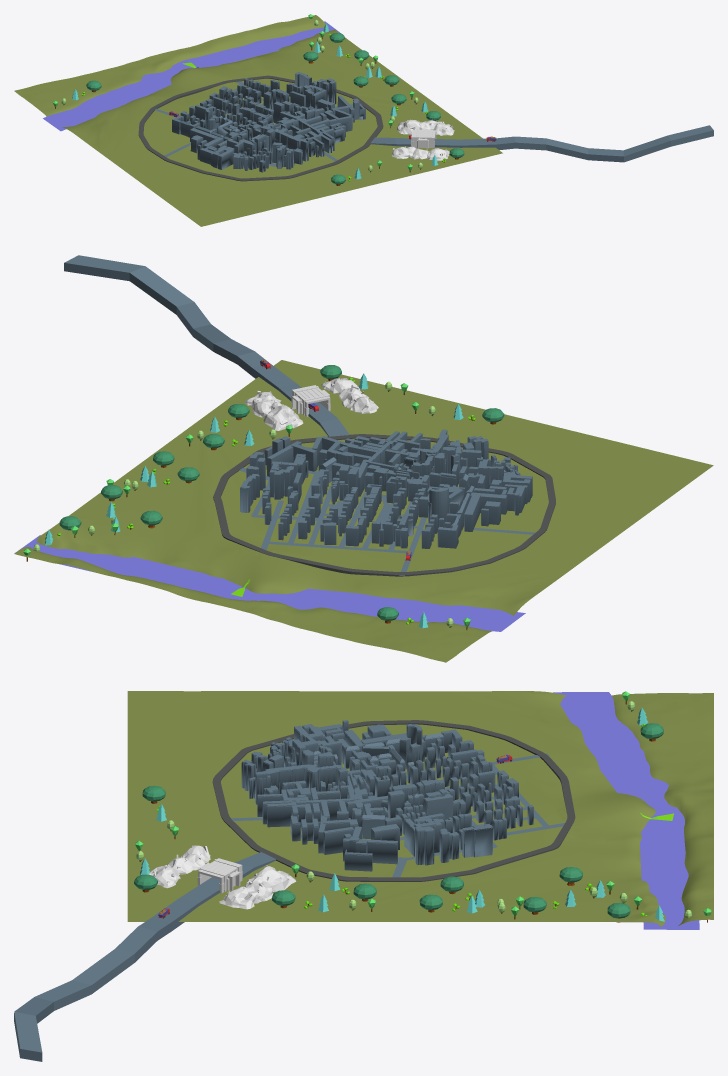
Rendered from City.fbx.
3 renders of one model, top to bottom at view 1: azimuth 30°, elevation 25°; view 2: azimuth 150°, elevation 25°; view 3: azimuth 270°, elevation 25°, orthographic. The views are drawn at different scales.
Parts seen in each view (by area): view 1: map_5.osm_roads_unclassified.006, map_5.osm_roads_unclassified.009, Plane.003, Plane.002, Plane.001, musor.001; view 2: map_5.osm_roads_unclassified.006, map_5.osm_roads_unclassified.009, Plane.002, Plane.003, Plane.001, musor.001; view 3: map_5.osm_roads_unclassified.006, map_5.osm_roads_unclassified.009, Plane.003, Plane.002, Plane.001, musor.001, Tree.010, Tree.006, Tree.009, Tree.008, Tree.013, Tree.001 (+2 smaller).
Boxes of the visible parts, bbox=[...] form: map_5.osm_roads_unclassified.006: bbox=[14, 15, 502, 226]; map_5.osm_roads_unclassified.009: bbox=[172, 72, 365, 172]; Plane.003: bbox=[43, 21, 340, 131]; Plane.002: bbox=[149, 81, 713, 166]; Plane.001: bbox=[138, 75, 383, 181]; musor.001: bbox=[391, 119, 454, 160]; map_5.osm_roads_unclassified.006: bbox=[14, 360, 713, 662]; map_5.osm_roads_unclassified.009: bbox=[240, 429, 532, 548]; Plane.002: bbox=[64, 255, 534, 576]; Plane.003: bbox=[14, 535, 525, 631]; Plane.001: bbox=[213, 434, 555, 576]; musor.001: bbox=[244, 378, 378, 430]; map_5.osm_roads_unclassified.006: bbox=[127, 691, 713, 926]; map_5.osm_roads_unclassified.009: bbox=[241, 720, 533, 871]; Plane.003: bbox=[553, 692, 699, 929]; Plane.002: bbox=[14, 724, 564, 1061]; Plane.001: bbox=[212, 720, 575, 881]; musor.001: bbox=[148, 845, 296, 909]; Tree.010: bbox=[559, 867, 642, 909]; Tree.006: bbox=[523, 881, 614, 914]; Tree.009: bbox=[272, 890, 375, 912]; Tree.008: bbox=[291, 864, 376, 901]; Tree.013: bbox=[440, 876, 519, 919]; Tree.001: bbox=[622, 691, 663, 741].
Size of the model in its own units: 15318 by 1098 by 12190.
